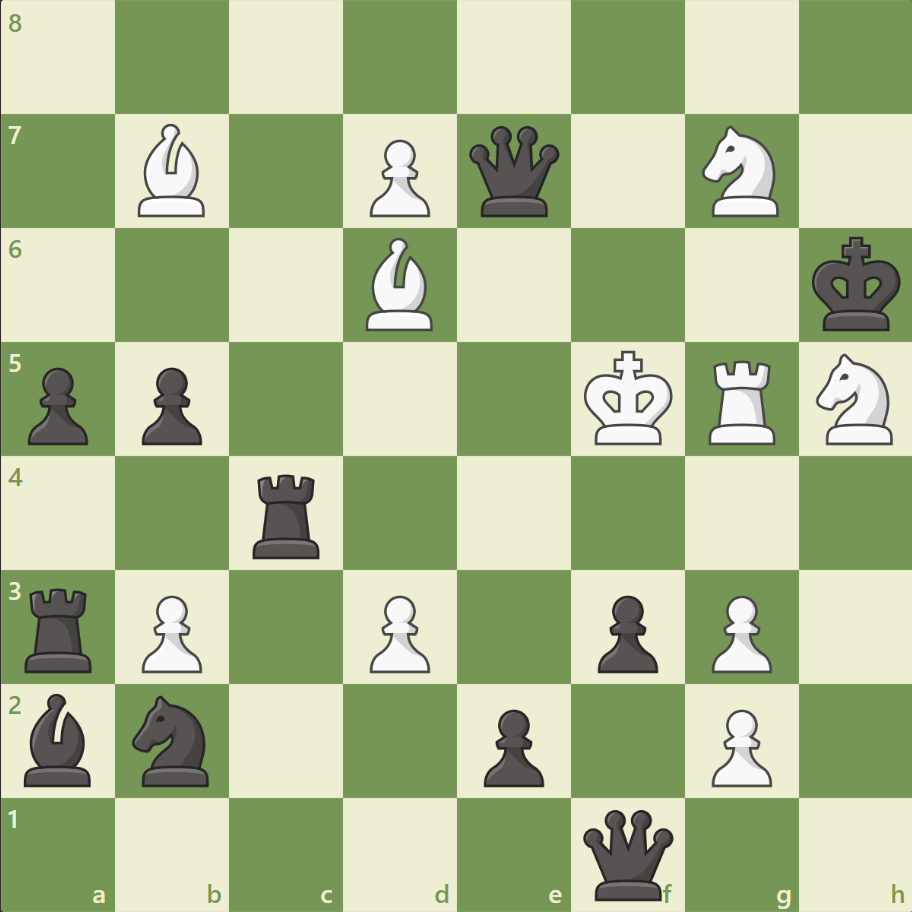B: (358, 233, 442, 336), (131, 120, 215, 222)
K: (579, 344, 679, 452)
N: (692, 121, 789, 223), (806, 348, 903, 450)
P: (133, 586, 208, 677), (701, 586, 776, 677), (701, 700, 776, 791), (361, 132, 435, 223), (361, 586, 435, 677)
R: (700, 352, 783, 449)
b: (17, 687, 101, 790)
k: (806, 231, 906, 339)
n: (124, 688, 222, 791)
p: (20, 359, 95, 450), (133, 359, 208, 450), (474, 700, 549, 791), (588, 586, 662, 677)
q: (464, 122, 563, 222), (578, 804, 677, 903)
r: (246, 466, 329, 563), (19, 579, 102, 676)
